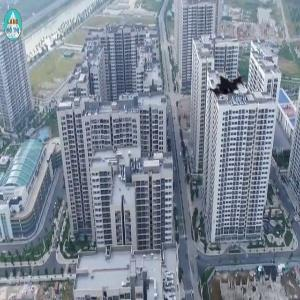drone: (203, 63, 254, 114)
